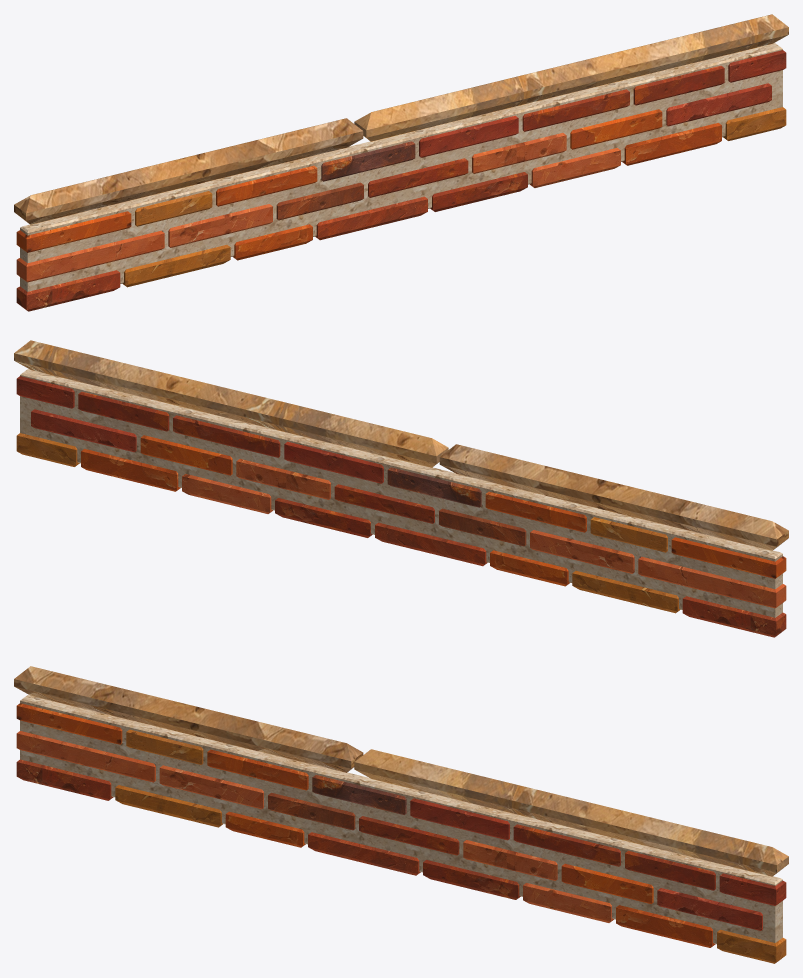
File: edge_strip__clay_brick.glb
3 renders of one model, top to bottom at view 1: azimuth 30°, elevation 25°; view 2: azimuth 150°, elevation 25°; view 3: azimuth 330°, elevation 25°, orthographic.
Parts seen in each view (by area): view 1: model; view 2: model; view 3: model.
Boxes of the visible parts, bbox=[...] form: model: bbox=[14, 14, 788, 311]; model: bbox=[14, 340, 788, 637]; model: bbox=[14, 666, 788, 963].
Size of the model in its own units: 1.98 by 0.2815 by 0.054.
Materials: 10 (10 with a texture image).
